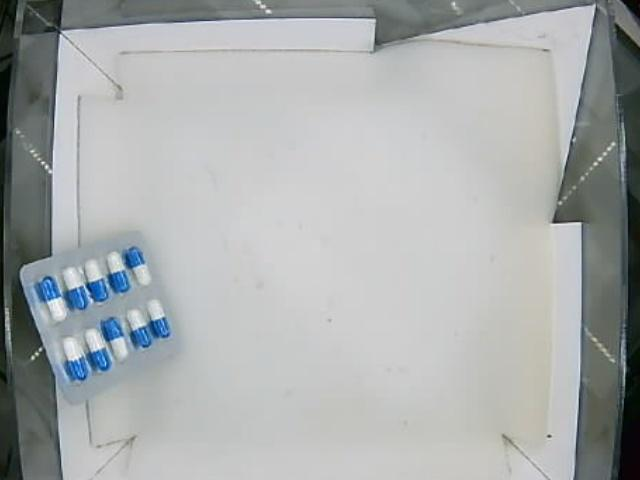Medicine: (19, 229, 181, 404)
